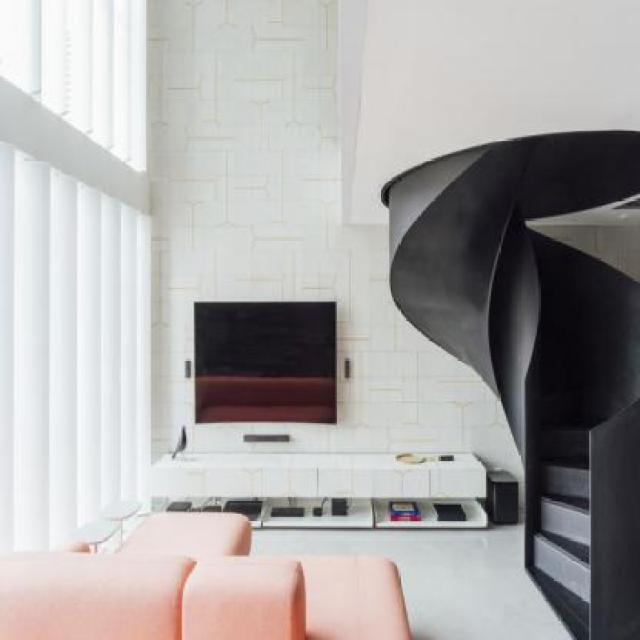stair: (516, 206, 638, 640)
